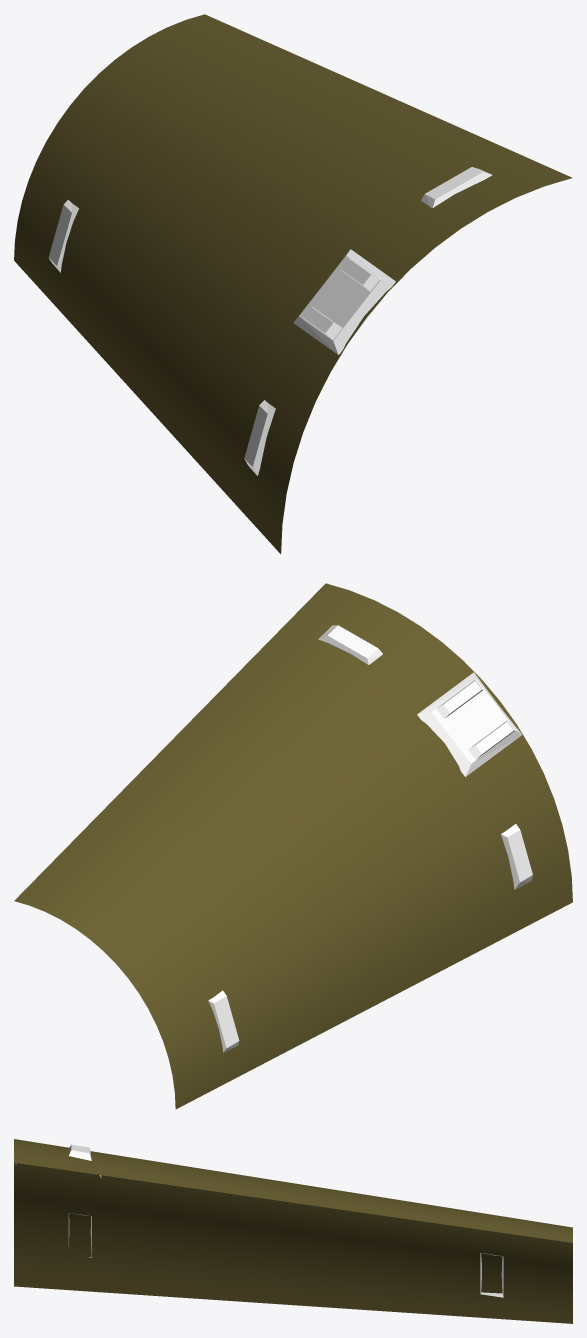
The model's file is sat5stg34.obj.
3 views of the same model, one above another, from view 1: azimuth 30°, elevation 25°; view 2: azimuth 150°, elevation 25°; view 3: azimuth 270°, elevation 25° (orthographic). The views are drawn at different scales.
Parts seen in each view (by area): view 1: group0, group55, group56; view 2: group0, group55, group56; view 3: group0.
Boxes of the visible parts, x1,y1,x2,y2 form: group0: (14, 14, 572, 553); group55: (299, 256, 380, 315); group56: (299, 280, 379, 340); group0: (14, 583, 572, 1109); group55: (431, 679, 476, 763); group56: (471, 679, 515, 763); group0: (14, 1139, 572, 1323).
Size of the model in its own units: 2.99 by 2.99 by 6.53.
